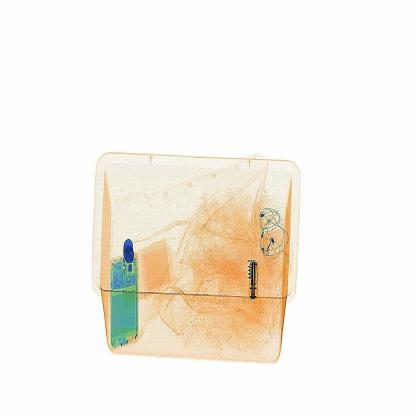scissors: (244, 254, 268, 302)
